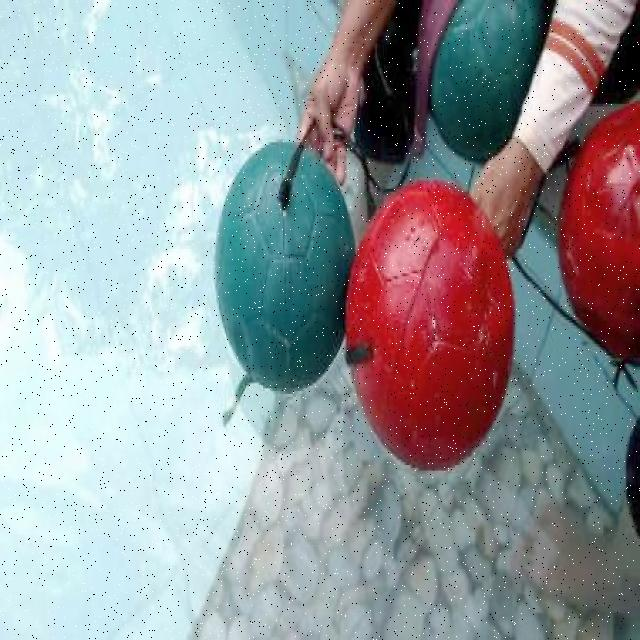buoy: (344, 178, 515, 473), (215, 139, 354, 391), (557, 98, 640, 367), (429, 3, 537, 156)
